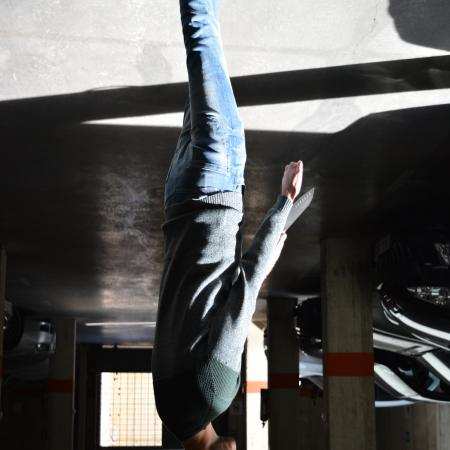long weapon: (282, 184, 316, 236)
